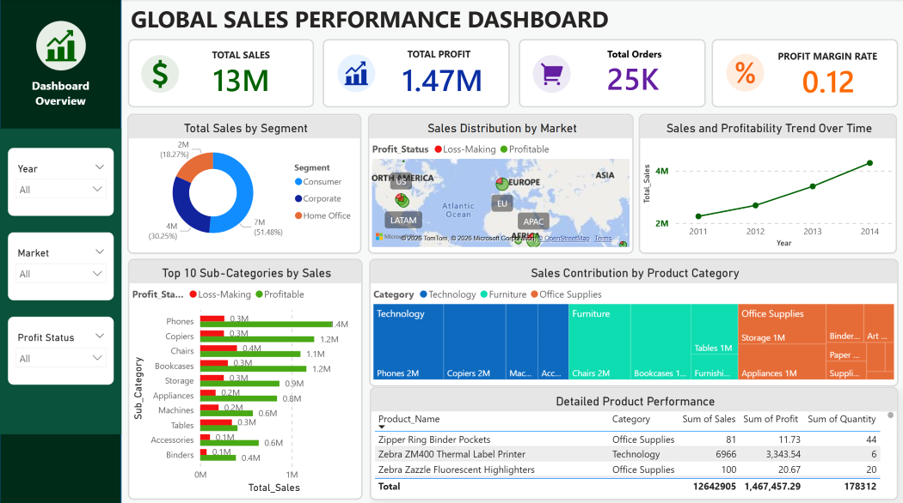

What the dashboard file says about the page in this screenshot:
{"tool":"powerbi","page":{"name":"Global Sales Performance Dashboard","canvas":[1280,720],"ordinal":0},"visuals":[{"type":"shape","box":[0,0,172.1,720.3],"z":0},{"type":"shape","box":[732.7,56.4,264,96.4],"z":0,"group":"g10"},{"type":"textbox","box":[837.2,62.4,117.1,29.7],"z":0,"group":"g7"},{"type":"textbox","box":[565.4,62.7,109.9,28.8],"z":0,"group":"g5"},{"type":"textbox","box":[290,63.3,100.8,29.2],"z":0,"group":"g3"},{"type":"image","box":[1020.6,71.8,63.8,64.6],"z":0,"group":"g12"},{"type":"textbox","box":[180,0,747.3,56.4],"z":1000},{"type":"group","id":"g1","title":"Group 8","box":[747.5,62.4,235.4,82.3],"z":1000,"group":"g10"},{"type":"group","id":"g2","title":"Group 10","box":[1079.3,65.8,180,79.4],"z":1000,"group":"g12"},{"type":"image","box":[747.5,73.3,64,64],"z":1000,"group":"g1"},{"type":"image","box":[471.7,72.6,64,64],"z":2000,"group":"g6"},{"type":"image","box":[193.6,73.3,65.6,63.8],"z":2000,"group":"g4"},{"type":"tableEx","title":"Detailed Product Performance","fields":{"Values":["superstore.Product_Name","superstore.Category","Sum(superstore.Sales)","Sum(superstore.Profit)","Sum(superstore.Quantity)"]},"box":[522.7,548.1,746,159.8],"z":2000},{"type":"shape","box":[0,182.9,172.1,432.1],"z":3000},{"type":"slicer","fields":{"Values":["superstore.Order_Date.Variation.Date Hierarchy.Year"]},"box":[12.1,210,149.3,95.7],"z":4000},{"type":"card","fields":{"Values":["superstore.Total_Sales"]},"box":[251,99.2,180,48.2],"z":4003,"group":"g3"},{"type":"slicer","fields":{"Values":["superstore.Market"]},"box":[11.4,329.3,149.3,95.7],"z":5000},{"type":"shape","box":[180.9,56.4,262.7,96.4],"z":6000,"group":"g8"},{"type":"slicer","fields":{"Values":["superstore.Profit_Status"]},"box":[11.4,449.3,149.3,95.7],"z":6000},{"type":"image","box":[46.4,25.5,80.1,80.1],"z":7000},{"type":"shape","box":[456.4,56.4,264,96.4],"z":7000,"group":"g9"},{"type":"group","id":"g3","title":"Group 1","box":[251,63.3,180,84.1],"z":7000,"group":"g4"},{"type":"group","id":"g4","title":"Group 2","box":[193.6,63.3,237.4,84.1],"z":7001,"group":"g8"},{"type":"card","fields":{"Values":["superstore.Total_Profit"]},"box":[535.7,98.7,180,48],"z":7005,"group":"g5"},{"type":"group","id":"g5","title":"Group 4","box":[535.7,62.7,180,84],"z":8000,"group":"g6"},{"type":"card","title":"Profit Margin Rate","fields":{"Values":["superstore.Profit_Margin_Rate"]},"box":[1079.3,97.2,180,48],"z":8000,"group":"g2"},{"type":"textbox","box":[17.1,105.7,137.9,56.4],"z":8000},{"type":"group","id":"g6","title":"Group 5","box":[471.7,62.7,244,84],"z":8001,"group":"g9"},{"type":"card","fields":{"Values":["superstore.Total_Orders"]},"box":[803.8,97.4,180,48],"z":8005,"group":"g7"},{"type":"group","id":"g7","title":"Group 7","box":[803.8,62.4,180,83],"z":8006,"group":"g1"},{"type":"shape","box":[1005.5,56.4,263.1,96.4],"z":9000,"group":"g11"},{"type":"clusteredBarChart","title":"Top 10 Sub-Categories by Sales","fields":{"Category":["superstore.Sub_Category"],"Series":["superstore.Profit_Status"],"Y":["superstore.Total_Sales"]},"box":[180.9,367.2,331.2,340.7],"z":9000},{"type":"map","title":"Sales Distribution by Market","fields":{"Category":["superstore.Market"],"Series":["superstore.Profit_Status"],"Size":["superstore.Total_Sales"]},"box":[520,161.8,375.5,198.2],"z":10000},{"type":"donutChart","title":"Total Sales by Segment","fields":{"Category":["superstore.Segment"],"Y":["superstore.Total_Sales"]},"box":[180,161.8,330.9,198.2],"z":11000},{"type":"lineChart","title":"Sales and Profitability Trend Over Time","fields":{"Category":["superstore.Order_Date.Variation.Date Hierarchy.Year","superstore.Order_Date.Variation.Date Hierarchy.Month"],"Y":["superstore.Total_Sales"]},"box":[902.7,161.8,364.5,198.2],"z":12000},{"type":"treemap","title":"Sales Contribution by Product Category","fields":{"Details":["superstore.Sub_Category"],"Group":["superstore.Category"],"Values":["superstore.Total_Sales"]},"box":[521.7,367.2,747.1,180.9],"z":13000},{"type":"group","id":"g8","title":"Group 3","box":[180.9,56.4,262.7,96.4],"z":14000},{"type":"group","id":"g9","title":"Group 6","box":[456.4,56.4,263.6,96.4],"z":15000},{"type":"group","id":"g10","title":"Group 9","box":[732.7,56.4,263.6,96.4],"z":16000},{"type":"group","id":"g11","title":"Group 12","box":[1005.5,56.4,262.7,96.4],"z":17000},{"type":"textbox","box":[1087.7,65.8,161.5,28.5],"z":18000,"group":"g2"},{"type":"group","id":"g12","title":"Group 11","box":[1020.6,65.8,238.7,79.4],"z":21003,"group":"g11"}]}

Visuals, with their boxes in screenshot pixels (x1, y1, x2, y2), scaled from the page's 1280x720 canvas onto the 903x503 screenshot:
shape: rect(0, 0, 121, 502)
shape: rect(517, 39, 703, 107)
textbox: rect(591, 44, 673, 64)
textbox: rect(399, 44, 476, 64)
textbox: rect(205, 44, 276, 65)
image: rect(720, 50, 765, 95)
textbox: rect(127, 0, 654, 39)
"Group 8" group: rect(527, 44, 693, 101)
"Group 10" group: rect(761, 46, 888, 101)
image: rect(527, 51, 572, 96)
image: rect(333, 51, 378, 95)
image: rect(137, 51, 183, 96)
"Detailed Product Performance" tableEx: rect(369, 383, 895, 495)
shape: rect(0, 128, 121, 430)
slicer - superstore.Order_Date.Variation.Date Hierarchy.Year: rect(9, 147, 114, 214)
card - superstore.Total_Sales: rect(177, 69, 304, 103)
slicer - superstore.Market: rect(8, 230, 113, 297)
shape: rect(128, 39, 313, 107)
slicer - superstore.Profit_Status: rect(8, 314, 113, 381)
image: rect(33, 18, 89, 74)
shape: rect(322, 39, 508, 107)
"Group 1" group: rect(177, 44, 304, 103)
"Group 2" group: rect(137, 44, 304, 103)
card - superstore.Total_Profit: rect(378, 69, 505, 102)
"Group 4" group: rect(378, 44, 505, 102)
"Profit Margin Rate" card: rect(761, 68, 888, 101)
textbox: rect(12, 74, 109, 113)
"Group 5" group: rect(333, 44, 505, 102)
card - superstore.Total_Orders: rect(567, 68, 694, 102)
"Group 7" group: rect(567, 44, 694, 102)
shape: rect(709, 39, 895, 107)
"Top 10 Sub-Categories by Sales" clusteredBarChart: rect(128, 257, 361, 495)
"Sales Distribution by Market" map: rect(367, 113, 632, 252)
"Total Sales by Segment" donutChart: rect(127, 113, 360, 252)
"Sales and Profitability Trend Over Time" lineChart: rect(637, 113, 894, 252)
"Sales Contribution by Product Category" treemap: rect(368, 257, 895, 383)
"Group 3" group: rect(128, 39, 313, 107)
"Group 6" group: rect(322, 39, 508, 107)
"Group 9" group: rect(517, 39, 703, 107)
"Group 12" group: rect(709, 39, 895, 107)
textbox: rect(767, 46, 881, 66)
"Group 11" group: rect(720, 46, 888, 101)
